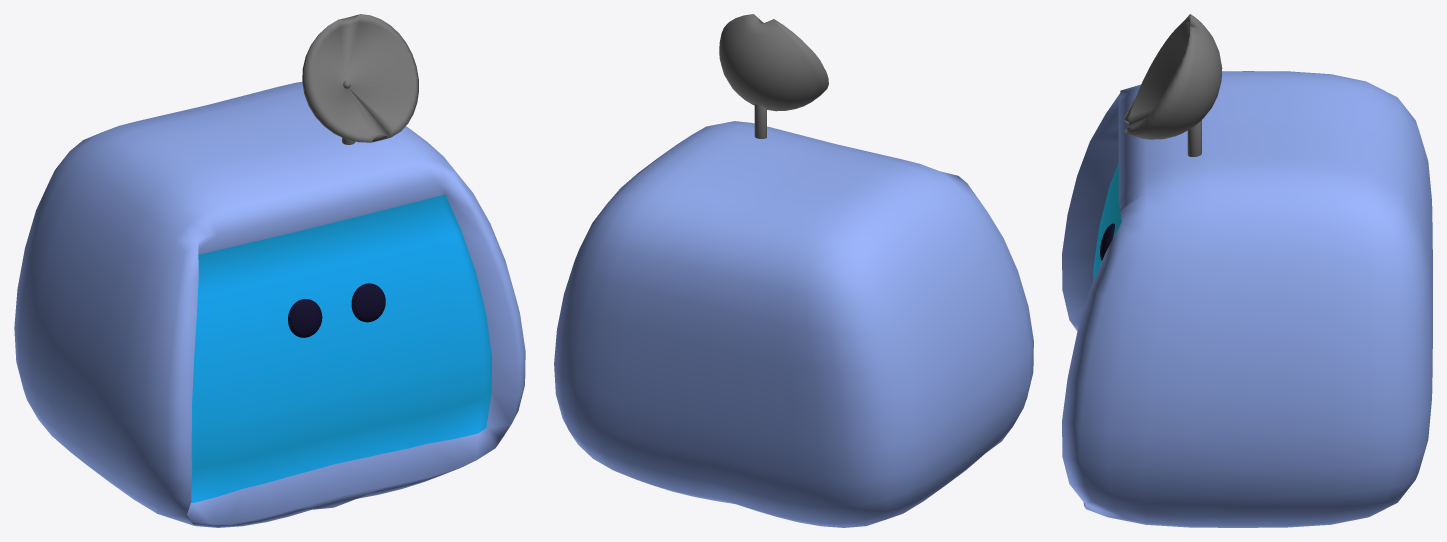
File: Head 2.fbx
The picture shows the model from 3 angles, left to right: view 1: azimuth 30°, elevation 25°; view 2: azimuth 150°, elevation 25°; view 3: azimuth 270°, elevation 25°; orthographic projection. The views are drawn at different scales.
Parts seen in each view (by area): view 1: Cube, Sphere.002, Sphere.001; view 2: Cube, Sphere.002; view 3: Cube, Sphere.002, Cylinder.002.
Boxes of the visible parts, box(x1,y1,x2,y2) form: Cube: box(14, 82, 525, 527); Sphere.002: box(302, 14, 418, 142); Sphere.001: box(288, 283, 385, 337); Cube: box(554, 121, 1033, 527); Sphere.002: box(719, 14, 828, 111); Cube: box(1062, 71, 1432, 527); Sphere.002: box(1123, 14, 1222, 139); Cylinder.002: box(1187, 120, 1201, 156).
Size of the model in its own units: 303 by 337 by 235.
